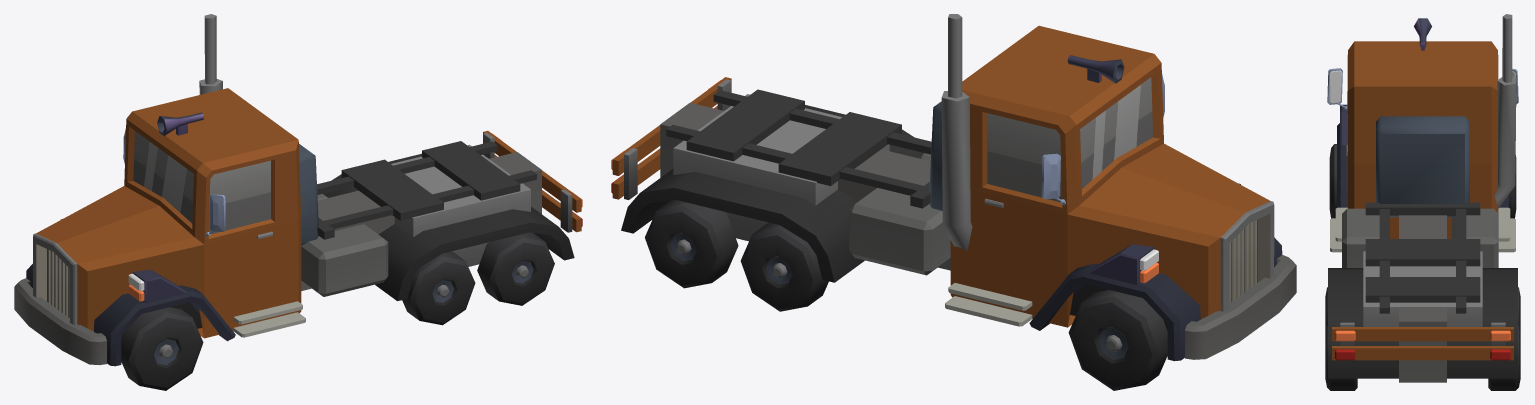
The model's file is Truck_I.fbx.
3 views of the same model, side by side, from view 1: azimuth 30°, elevation 25°; view 2: azimuth 150°, elevation 25°; view 3: azimuth 270°, elevation 25° (orthographic). The views are drawn at different scales.
Parts seen in each view (by area): view 1: Truck_I, FL, RM, ML; view 2: Truck_I, FR, RL, MR; view 3: Truck_I, RL, RM, FL, FR.
Part boxes in pixels (x1,y1,x2,y2): Truck_I: [14, 14, 582, 366]; FL: [121, 307, 203, 390]; RM: [477, 232, 554, 305]; ML: [402, 251, 475, 325]; Truck_I: [611, 14, 1296, 361]; FR: [1068, 290, 1167, 390]; RL: [645, 200, 738, 288]; MR: [740, 223, 828, 311]; Truck_I: [1327, 14, 1518, 382]; RL: [1488, 325, 1520, 390]; RM: [1325, 325, 1357, 390]; FL: [1329, 144, 1336, 218]; FR: [1509, 155, 1516, 218].
Bounding box in the file's own units: 5.24 × 2.81 × 1.85.
